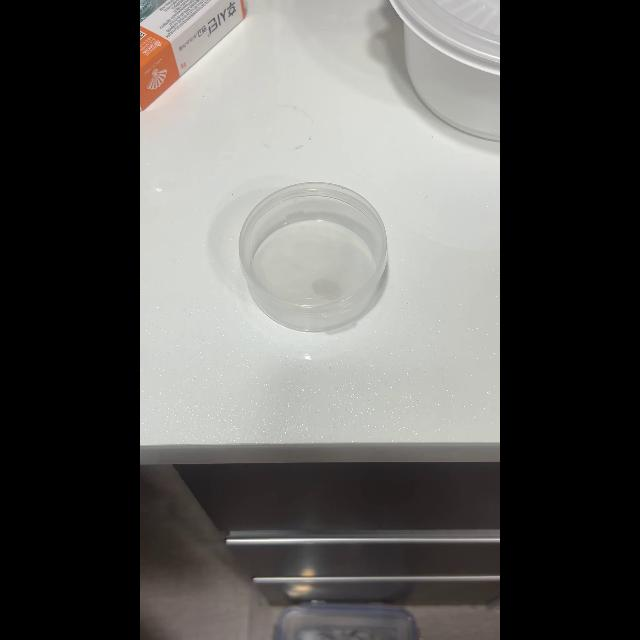clean: (238, 181, 389, 331)
